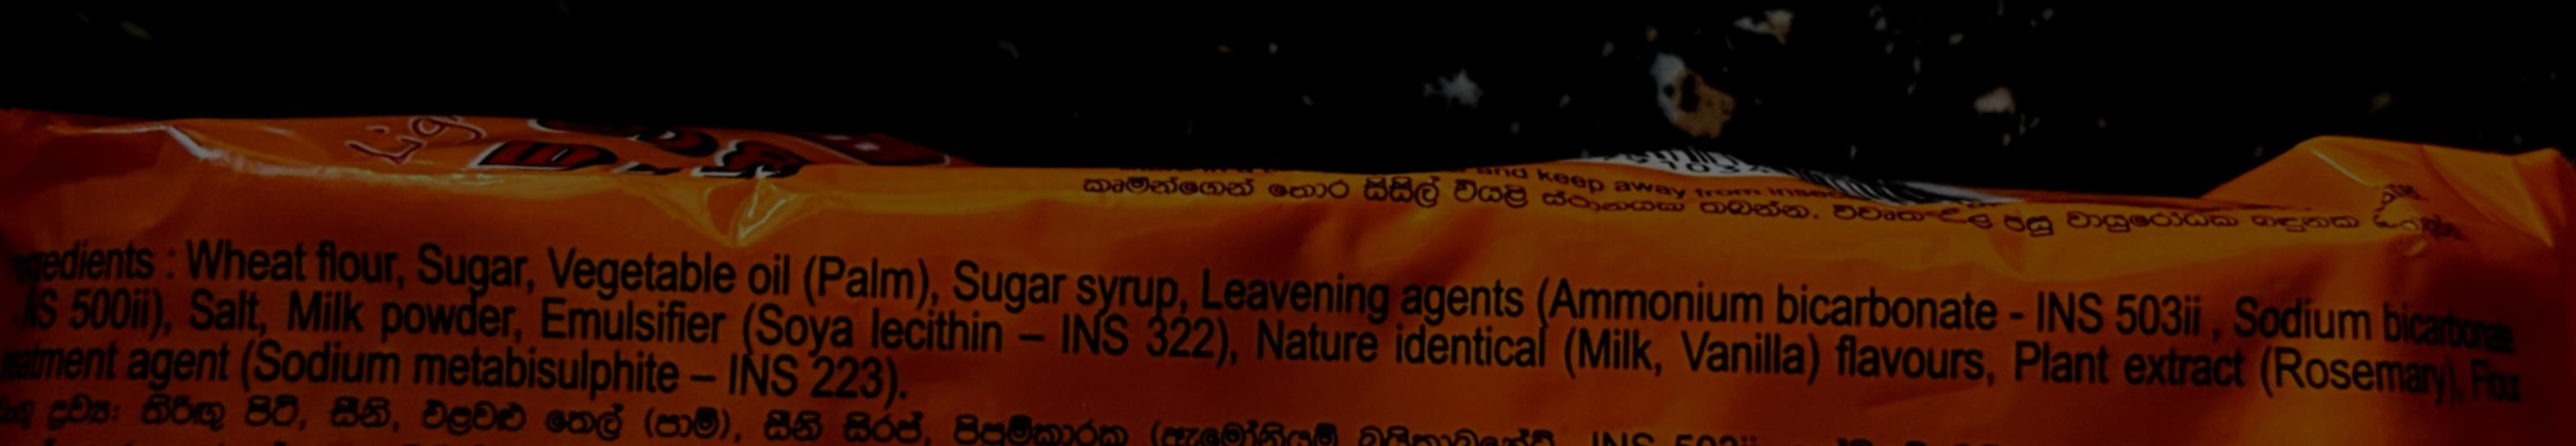ingredients: (0, 140, 2550, 434)
